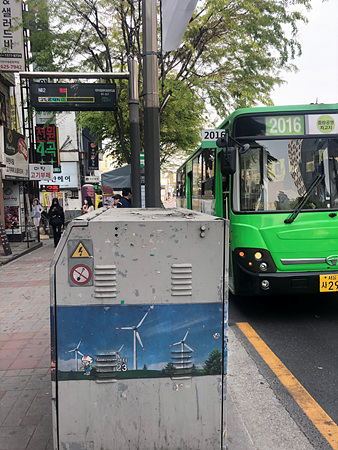bnum: (269, 115, 303, 133)
